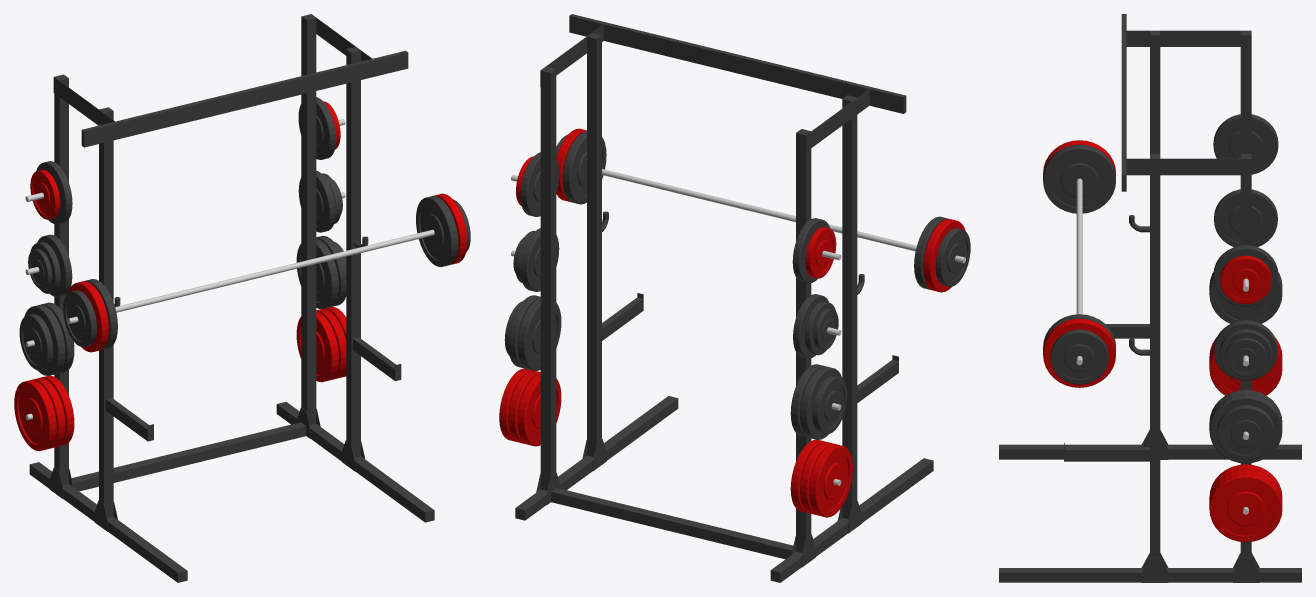
The model's file is BarbellStand.fbx.
3 renders of one model, left to right at view 1: azimuth 30°, elevation 25°; view 2: azimuth 150°, elevation 25°; view 3: azimuth 270°, elevation 25°, orthographic. The views are drawn at different scales.
Visible parts, largest first — view 1: Cylinder.036, Cylinder.001; view 2: Cylinder.036, Cylinder.001; view 3: Cylinder.036, Cylinder.001.
Part boxes in pixels (x1,y1,x2,y2): Cylinder.036: (14, 14, 434, 582); Cylinder.001: (63, 193, 470, 352); Cylinder.036: (499, 14, 933, 582); Cylinder.001: (556, 128, 970, 292); Cylinder.036: (999, 14, 1301, 582); Cylinder.001: (1043, 140, 1115, 387).
Size of the model in its own units: 249 by 250 by 162.
